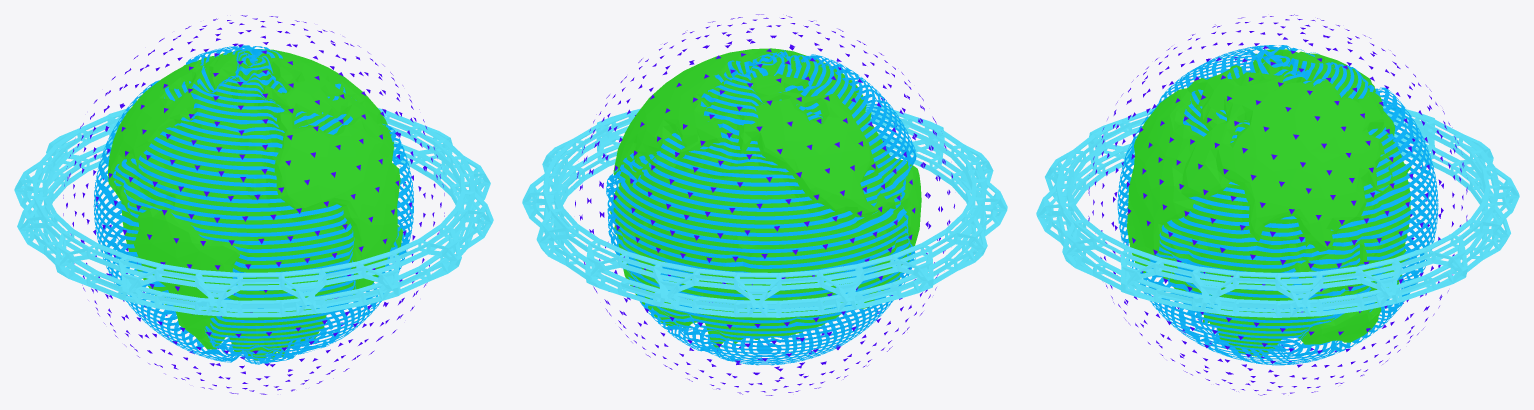
Rendered from managed-it.glb.
3 renders of one model, left to right at view 1: azimuth 30°, elevation 25°; view 2: azimuth 150°, elevation 25°; view 3: azimuth 270°, elevation 25°, orthographic.
Parts seen in each view (by area): view 1: Icosphere.002, Circle.002, Sphere.004, Circle; view 2: Icosphere.002, Sphere.004, Circle.002, Circle; view 3: Icosphere.002, Circle.002, Sphere.004, Circle.
Boxes of the visible parts, x1,y1,x2,y2 form: Icosphere.002: [108, 49, 403, 360]; Circle.002: [14, 107, 493, 317]; Sphere.004: [93, 45, 413, 364]; Circle: [63, 15, 444, 394]; Icosphere.002: [610, 48, 921, 348]; Sphere.004: [606, 50, 916, 365]; Circle.002: [522, 103, 1007, 317]; Circle: [575, 14, 954, 395]; Icosphere.002: [1127, 49, 1410, 356]; Circle.002: [1036, 106, 1519, 317]; Sphere.004: [1117, 45, 1438, 365]; Circle: [1088, 14, 1467, 395].
Bounding box in the file's own units: 10.1 × 7.98 × 10.1.
